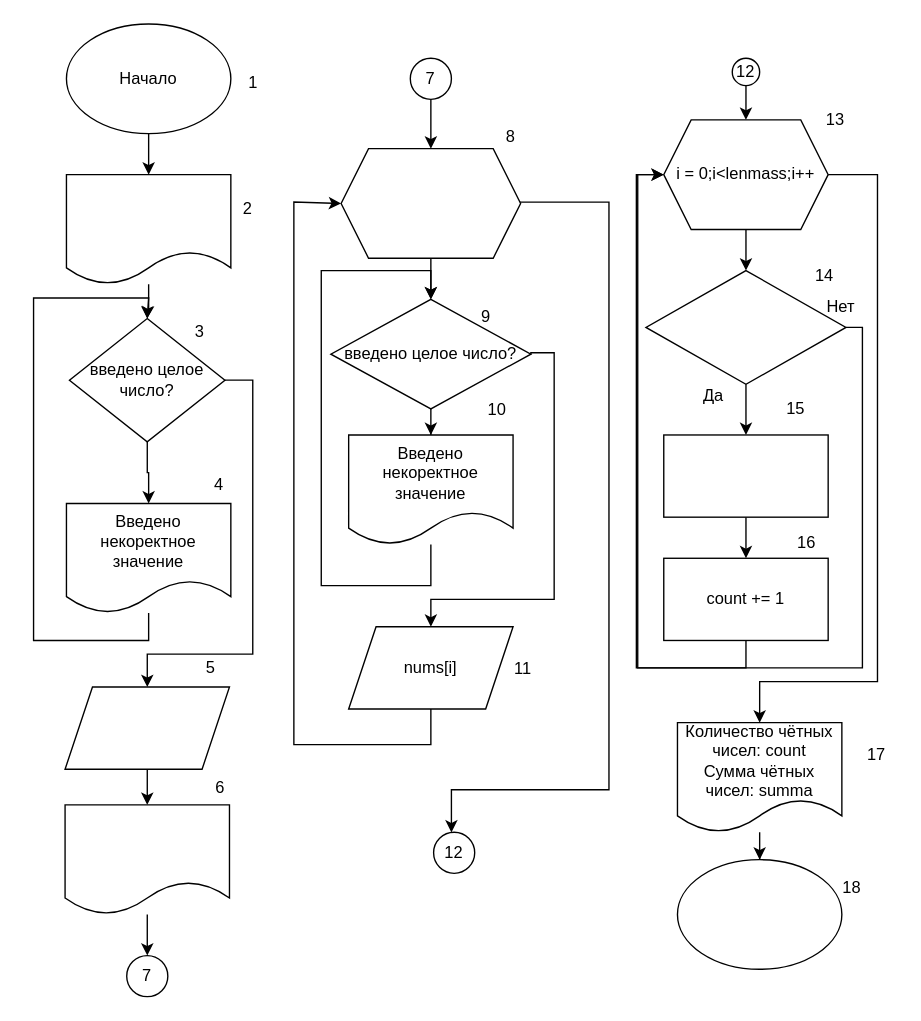
The diagram is 921 pixels wide and 1021 high, and some of its shapes have lost their labels. Here are the shapes that lost their labels. From the top down, the box of each, then its label:
(340, 147, 521, 258): i = 0;i < lenmass; i++
(65, 173, 231, 284): Введите длину массива:
(645, 269, 846, 384): nums[i] % 2 == 0
(662, 434, 828, 517): summa += nums[i]
(64, 686, 229, 769): lenmass
(64, 804, 229, 914): Введите массив:
(676, 858, 842, 969): конец
